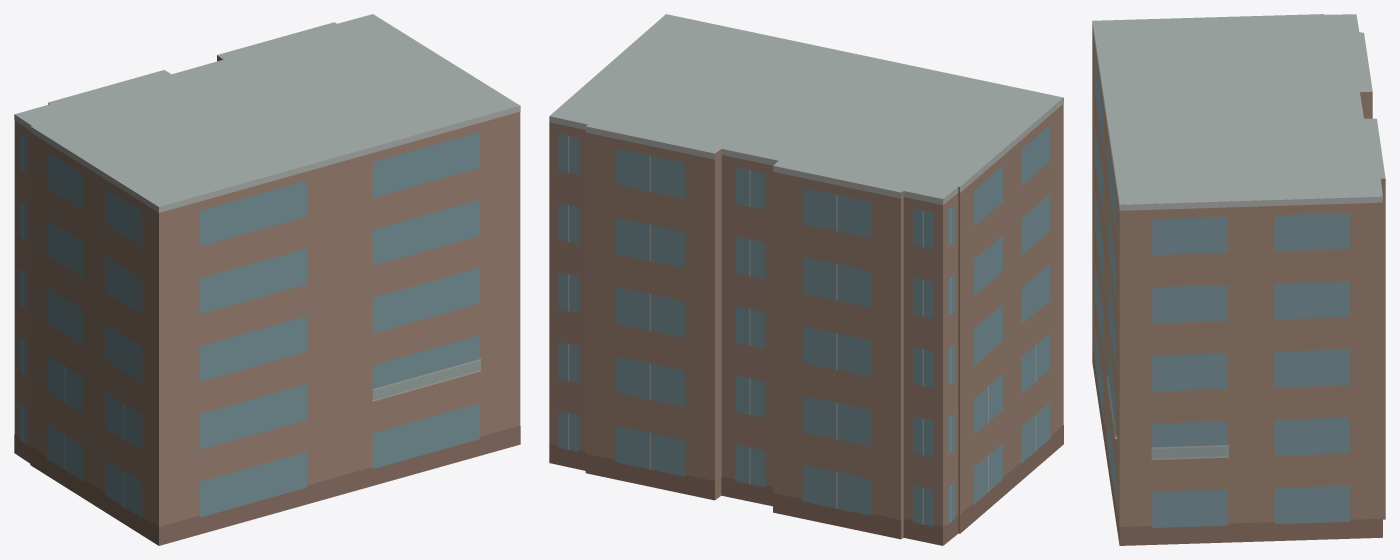
The model's file is survey-upis-32735355.glb.
3 views of the same model, side by side, from view 1: azimuth 30°, elevation 25°; view 2: azimuth 150°, elevation 25°; view 3: azimuth 270°, elevation 25° (orthographic). The views are drawn at different scales.
Parts seen in each view (by area): view 1: survey-upis-32735355.tmp; view 2: survey-upis-32735355.tmp; view 3: survey-upis-32735355.tmp.
Boxes of the visible parts, x1=… form: survey-upis-32735355.tmp: x1=14, y1=14, x2=520, y2=545; survey-upis-32735355.tmp: x1=549, y1=14, x2=1063, y2=545; survey-upis-32735355.tmp: x1=1092, y1=14, x2=1385, y2=545.
Size of the model in its own units: 16.82 by 14 by 10.92.
